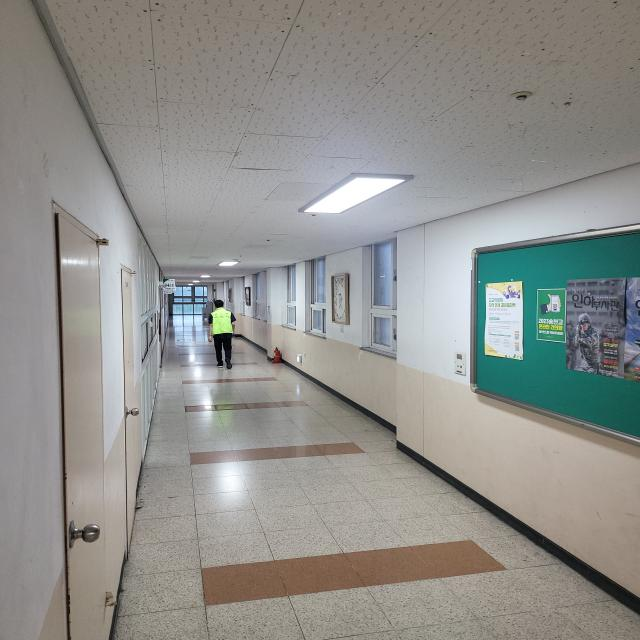weston_spy: (205, 300, 241, 341)
